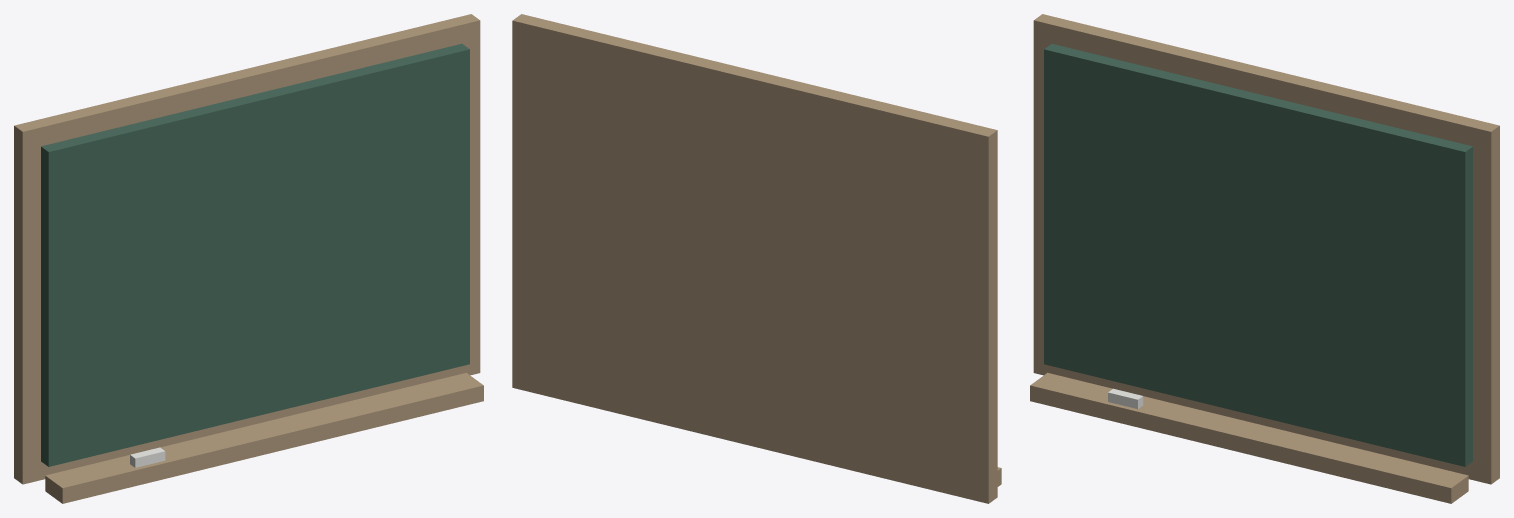
File: mov_75ec885c72.gltf
The picture shows the model from 3 angles, left to right: view 1: azimuth 30°, elevation 25°; view 2: azimuth 150°, elevation 25°; view 3: azimuth 330°, elevation 25°; orthographic projection. The views are drawn at different scales.
Parts seen in each view (by area): view 1: mov_75ec885c72; view 2: mov_75ec885c72; view 3: mov_75ec885c72.
Part boxes in pixels (<box>): mov_75ec885c72: <box>14,14,483,503</box>; mov_75ec885c72: <box>512,14,1001,503</box>; mov_75ec885c72: <box>1030,14,1499,503</box>.
Bounding box in the file's own units: 1.52 × 1.14 × 0.175.
